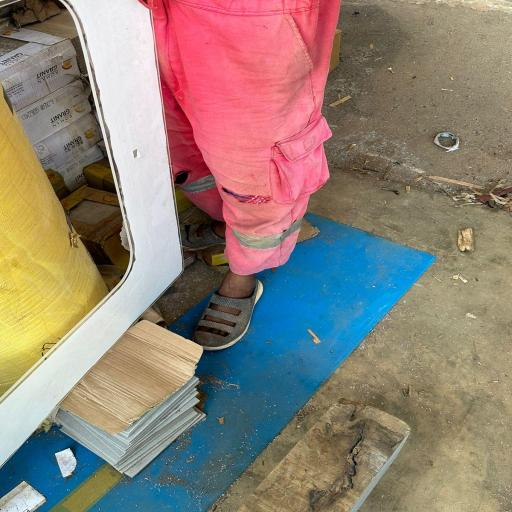not_safety_shoe: (185, 266, 271, 354)
